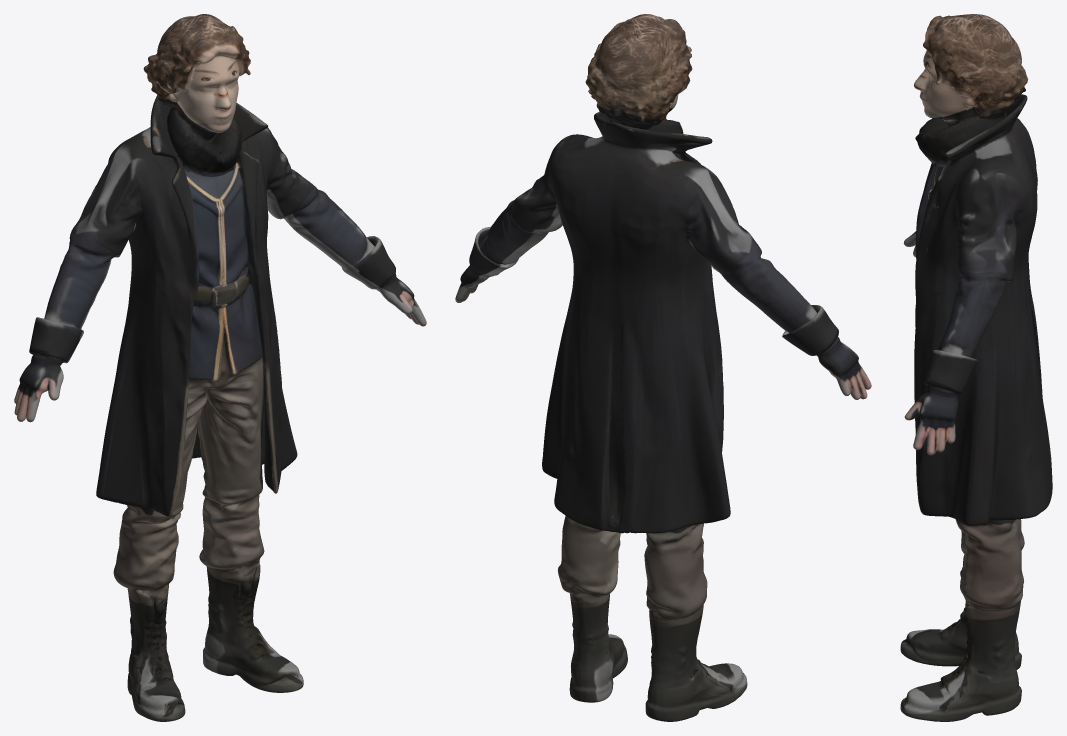
Rendered from cave.glb.
3 views of the same model, side by side, from view 1: azimuth 30°, elevation 25°; view 2: azimuth 150°, elevation 25°; view 3: azimuth 270°, elevation 25° (orthographic).
Parts seen in each view (by area): view 1: tripo_node_4e2da899-cc37-4d3c-ad38-a1e5f13e8de2; view 2: tripo_node_4e2da899-cc37-4d3c-ad38-a1e5f13e8de2; view 3: tripo_node_4e2da899-cc37-4d3c-ad38-a1e5f13e8de2.
Boxes of the visible parts, x1=… form: tripo_node_4e2da899-cc37-4d3c-ad38-a1e5f13e8de2: x1=14, y1=14, x2=426, y2=721; tripo_node_4e2da899-cc37-4d3c-ad38-a1e5f13e8de2: x1=455, y1=14, x2=871, y2=721; tripo_node_4e2da899-cc37-4d3c-ad38-a1e5f13e8de2: x1=900, y1=14, x2=1052, y2=721.
Bounding box in the file's own units: 0.6333 × 1 × 0.2055.
Materials: 1 (1 with a texture image).
